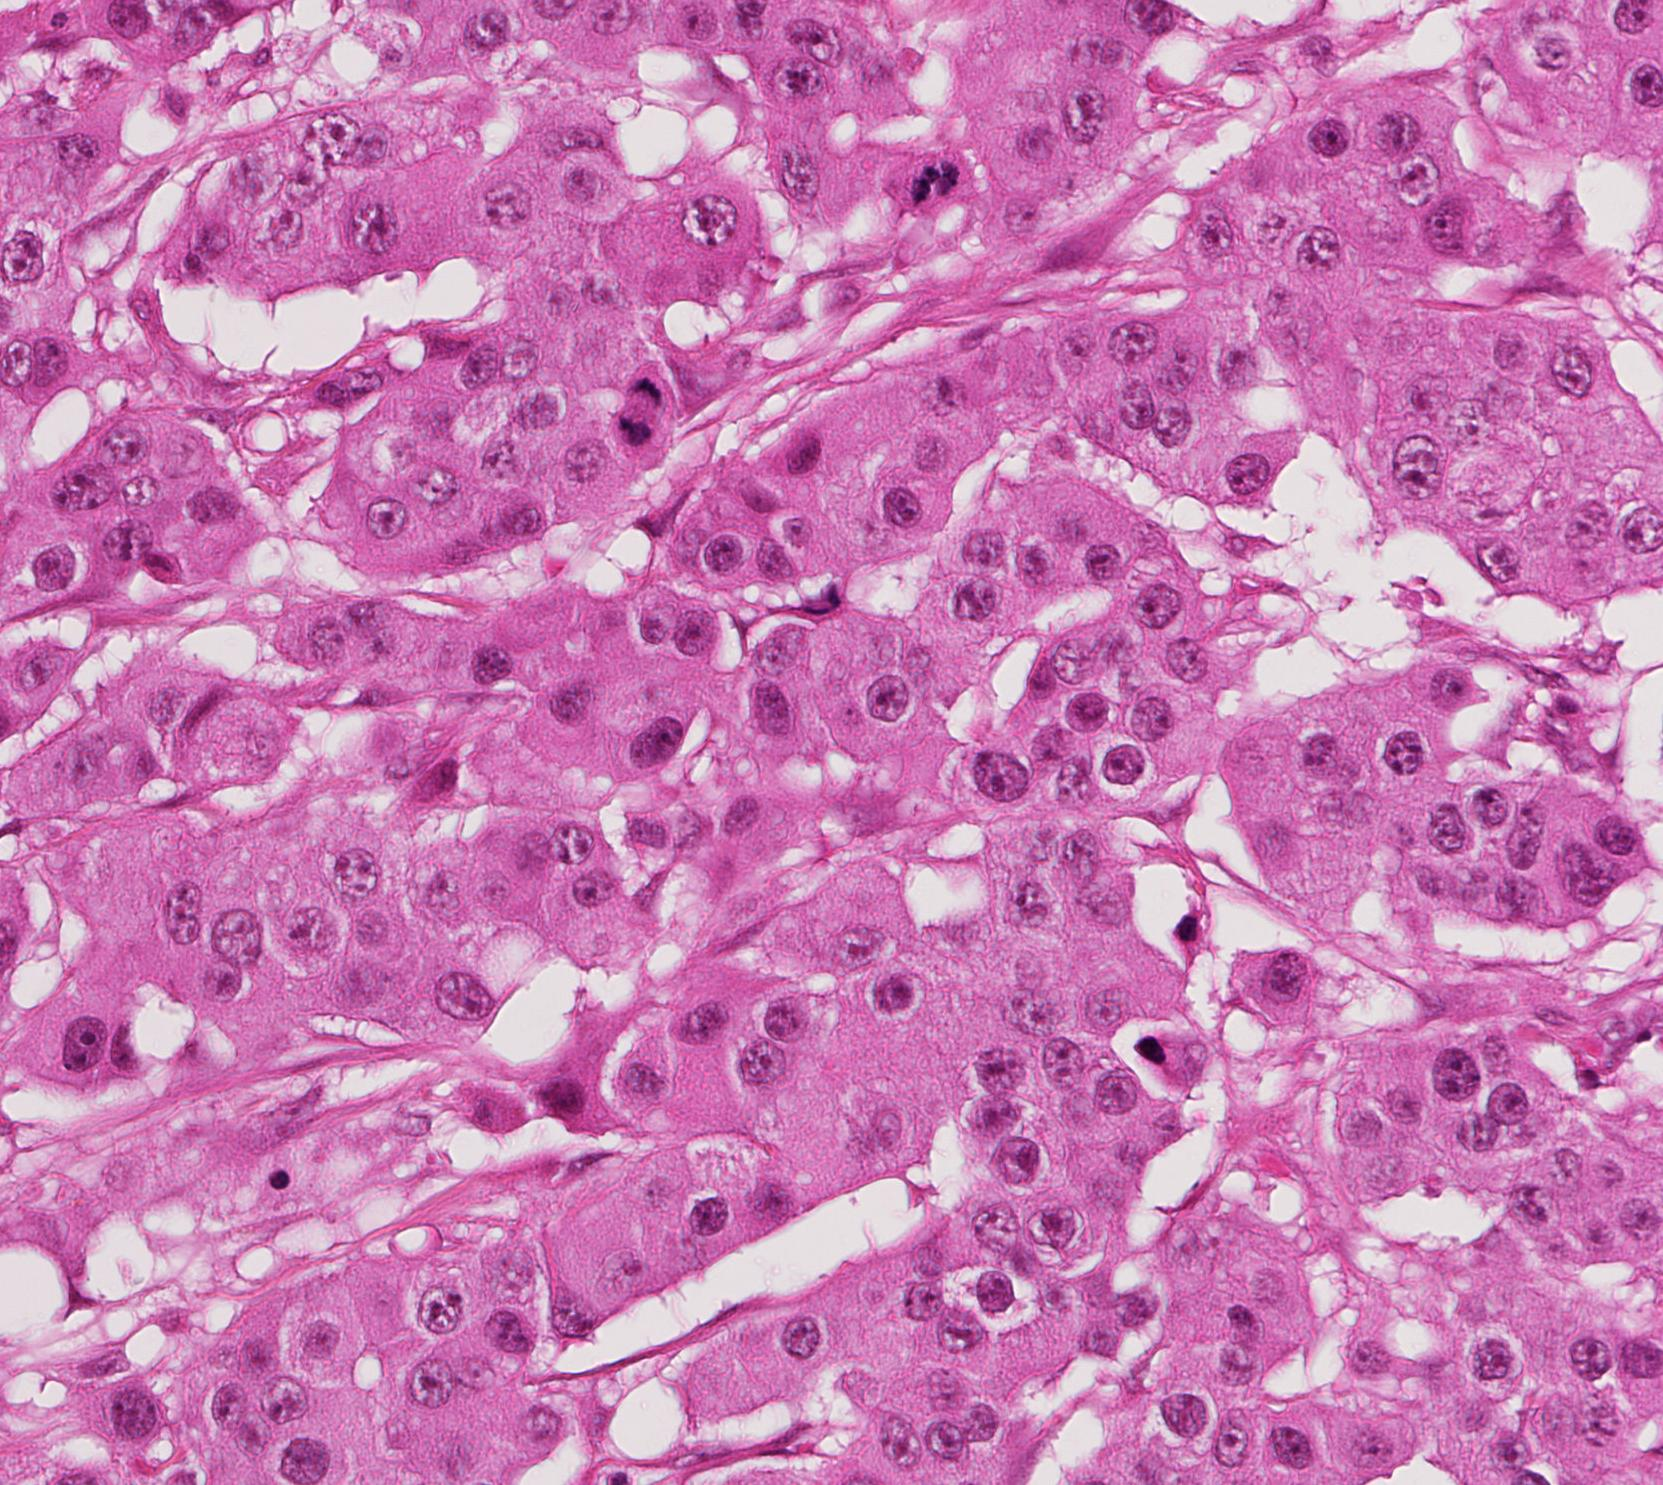mitosis: (606, 373, 667, 433), (906, 148, 966, 208)
